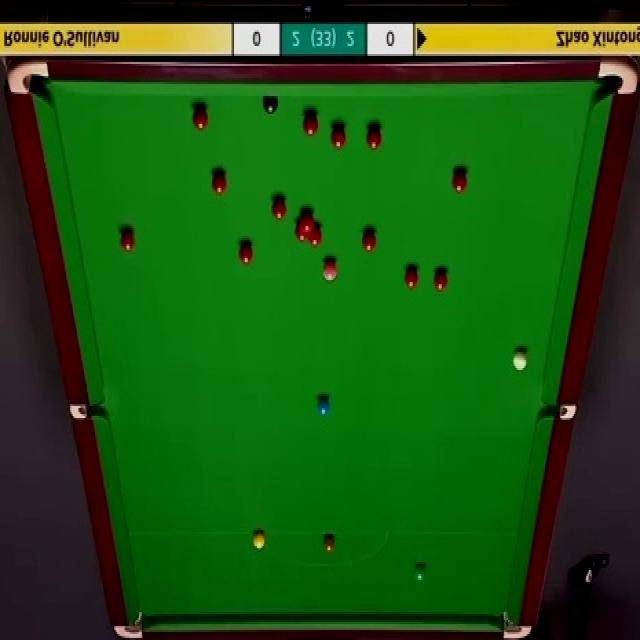black-ball: (262, 98, 278, 114)
blue-ball: (316, 396, 329, 417)
brown-ball: (322, 534, 336, 553)
green-ball: (415, 565, 426, 584)
pink-ball: (321, 263, 336, 287)
red-ball: (330, 123, 347, 149), (451, 169, 469, 193), (237, 242, 254, 267), (192, 107, 209, 132), (300, 206, 315, 234), (268, 198, 284, 224), (302, 112, 318, 138), (432, 268, 448, 294), (118, 228, 136, 251), (306, 224, 323, 248), (211, 171, 228, 195), (362, 230, 377, 254), (404, 268, 420, 288), (367, 128, 382, 149), (296, 219, 309, 242)
white-ball: (512, 348, 528, 371)
yellow-ball: (250, 530, 266, 550)
